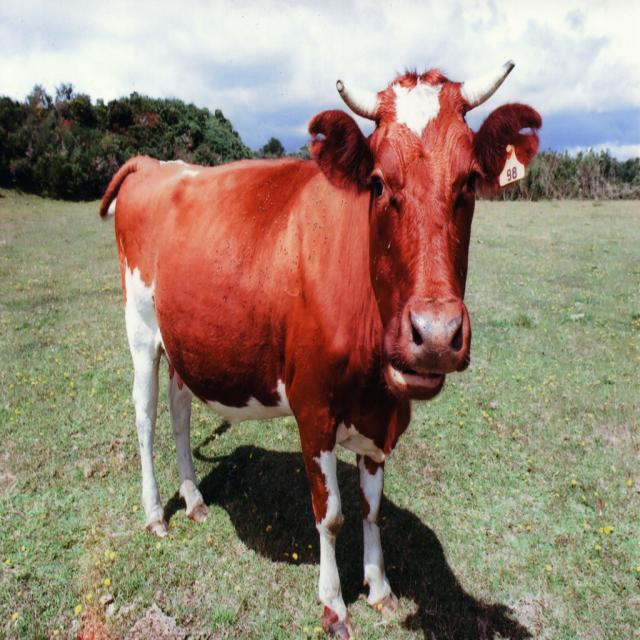Cattle: (100, 61, 541, 640)
